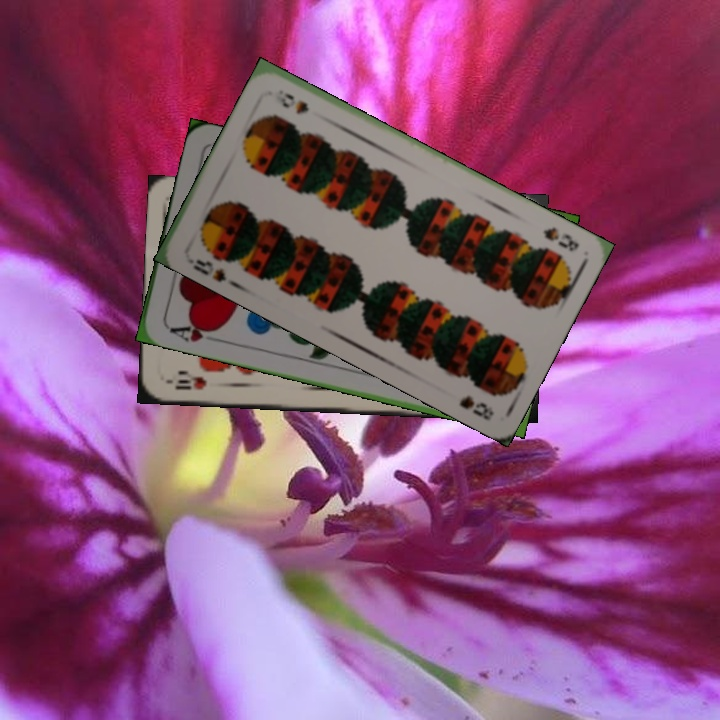H10: (171, 372, 209, 393)
HA: (164, 317, 222, 345)
S8: (182, 253, 229, 285), (539, 223, 582, 254)
